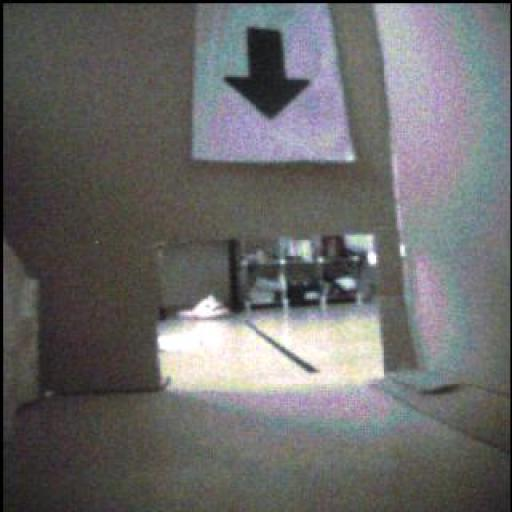arrow: (225, 29, 310, 120)
